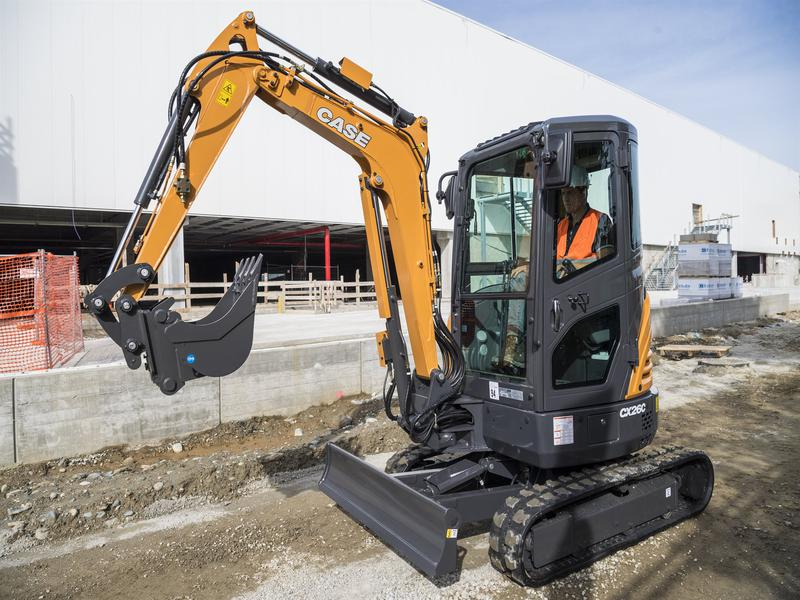shovel: (81, 5, 722, 585)
